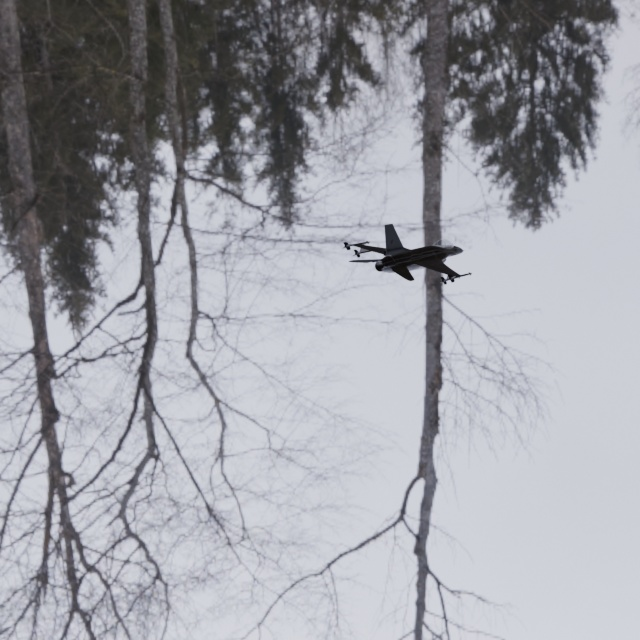model: (323, 198, 524, 296)
